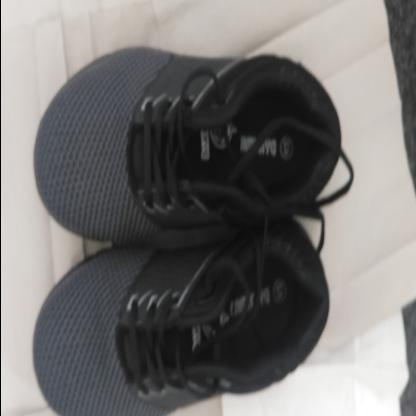safety-shoe: (25, 46, 364, 416)
